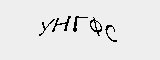Г: (72, 12, 86, 37)
Н: (51, 15, 71, 37)
С: (104, 23, 121, 44)
У: (37, 17, 55, 36)
Ф: (89, 15, 105, 39)
